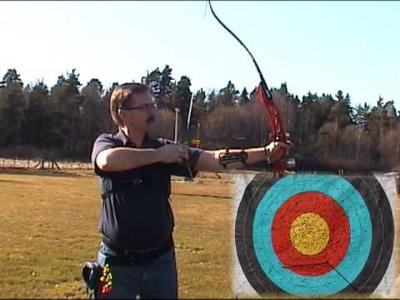person: (88, 83, 295, 298)
